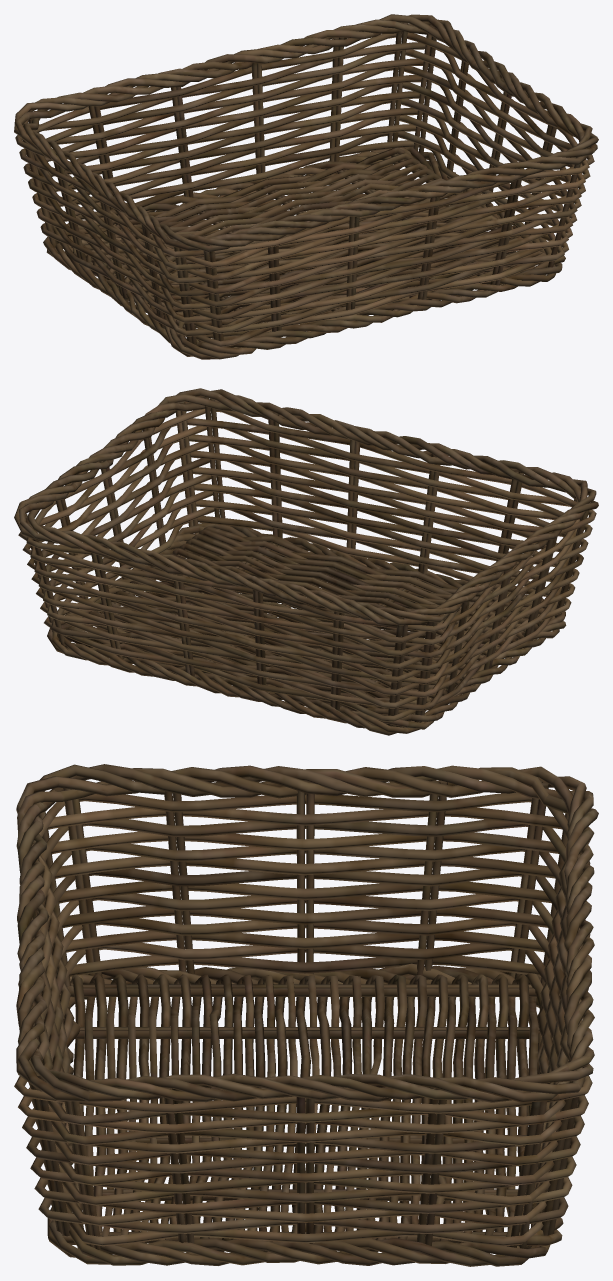
File: wicker_basket_01.glb
3 renders of one model, top to bottom at view 1: azimuth 30°, elevation 25°; view 2: azimuth 150°, elevation 25°; view 3: azimuth 270°, elevation 25°, orthographic. The views are drawn at different scales.
Visible parts, largest first — view 1: wicker_basket_01; view 2: wicker_basket_01; view 3: wicker_basket_01.
Boxes of the visible parts, x1,y1,x2,y2 form: wicker_basket_01: (14,14,598,359); wicker_basket_01: (14,388,598,735); wicker_basket_01: (14,764,598,1266).
Bounding box in the file's own units: 0.3832 × 0.1174 × 0.295.
Materials: 1 (1 with a texture image).
